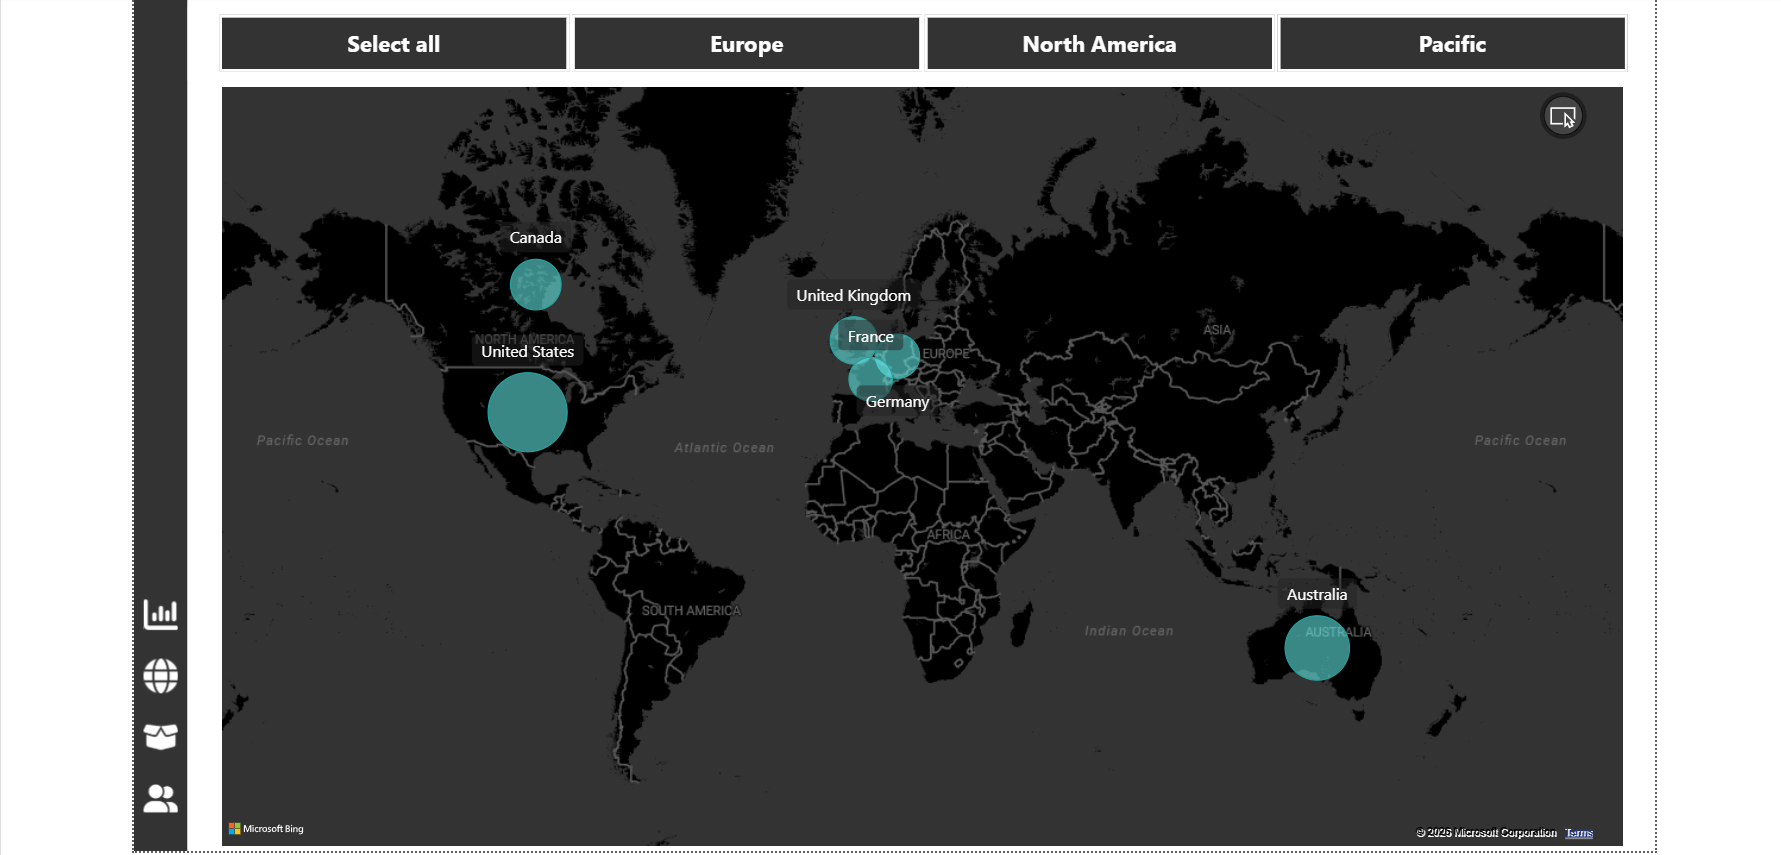

The page's visual inventory and layout, read from the dashboard file:
{"tool":"powerbi","page":{"name":"Map","canvas":[1280,720],"ordinal":1},"visuals":[{"type":"shape","box":[0,0,45,720],"z":0},{"type":"map","fields":{"Category":["Territory Lookup.Country"],"Size":["Measure Table.Total Orders"]},"box":[69.7,72.1,1188,648.1],"z":1000},{"type":"actionButton","box":[0,502.5,44.8,37.3],"z":1000,"group":"g1"},{"type":"slicer","fields":{"Values":["Territory Lookup.Continent"]},"box":[44.8,10,1235.3,62.2],"z":2000},{"type":"actionButton","box":[0,553.9,44.8,37.3],"z":2000,"group":"g1"},{"type":"group","id":"g1","title":"Navigation Buttons","box":[0,502.5,45,191.2],"z":3000},{"type":"actionButton","box":[0,605.3,44.8,37.3],"z":3000,"group":"g1"},{"type":"actionButton","box":[0,656.8,44.8,37.3],"z":4000,"group":"g1"}]}

Visuals, with their boxes in screenshot pixels (x1, y1, x2, y2):
shape: Rect(130, 0, 182, 837)
map - Territory Lookup.Country x Measure Table.Total Orders: Rect(211, 80, 1600, 837)
actionButton: Rect(130, 583, 182, 626)
slicer - Territory Lookup.Continent: Rect(182, 7, 1626, 80)
actionButton: Rect(130, 643, 182, 686)
"Navigation Buttons" group: Rect(130, 583, 182, 806)
actionButton: Rect(130, 703, 182, 746)
actionButton: Rect(130, 763, 182, 807)
